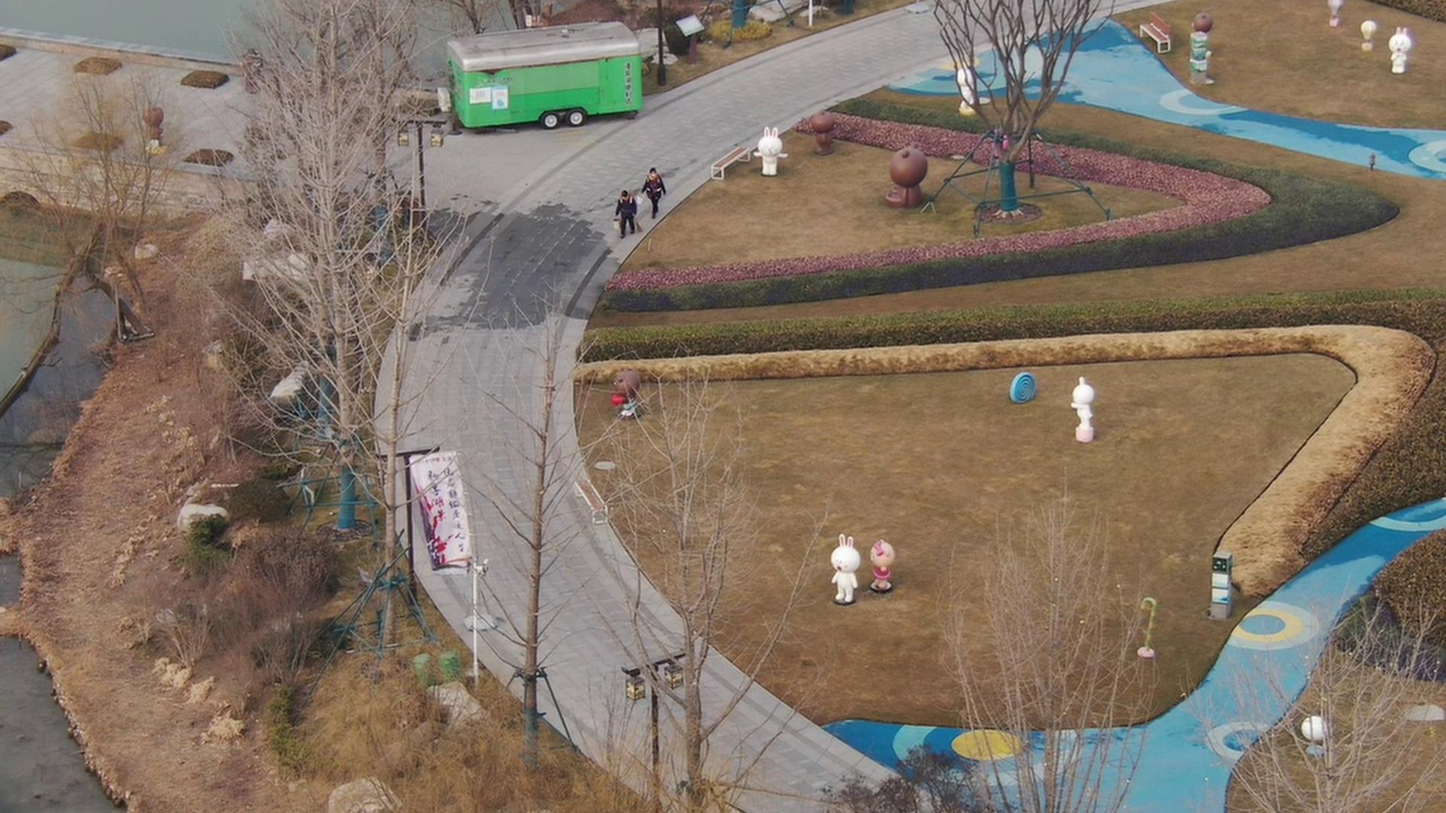human: (633, 159, 670, 214), (606, 182, 638, 234)
